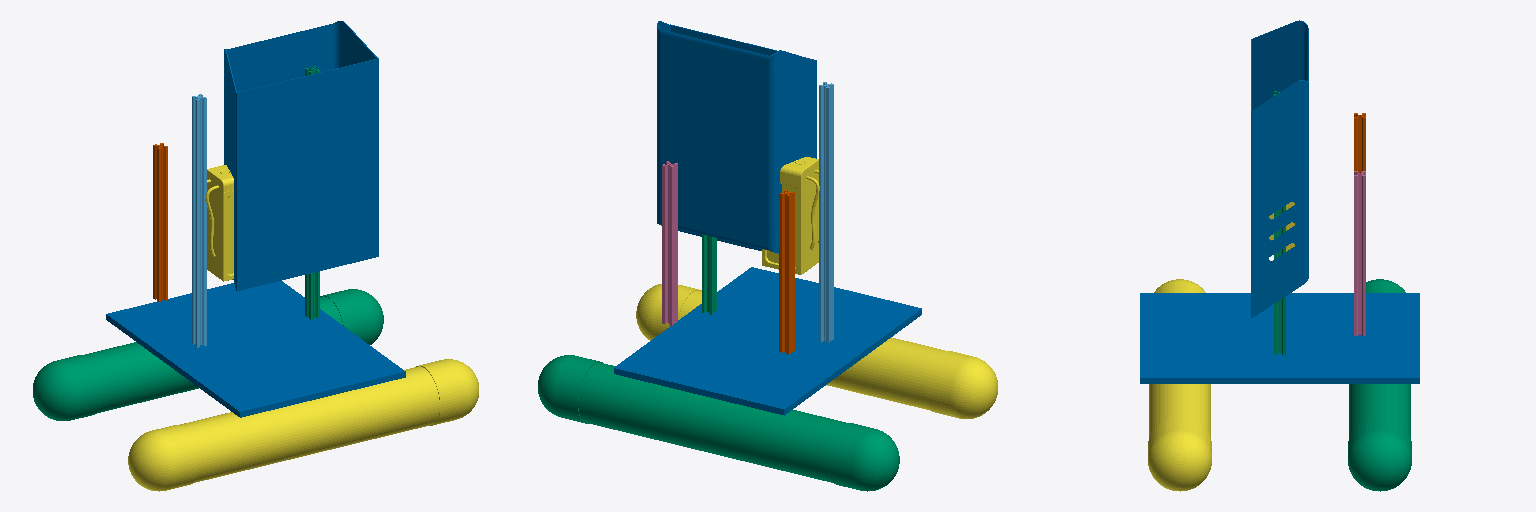
URDF robot description (asv_station_keeping_diag):
<?xml version='1.0' encoding='utf-8'?>
<robot name="asv_station_keeping_diag">
  <!-- Mesh-loading test only. Mounting poses are estimates, not Fusion occurrence transforms. 00_base has no visuals. -->
  <link name="base_footprint" />
  <link name="base_link">
    <inertial>
      <origin xyz="0 0 0" rpy="0 0 0" />
      <mass value="0.1" />
      <inertia ixx="0.0001" ixy="0" ixz="0" iyy="0.0001" iyz="0" izz="0.0001" />
    </inertial>
  </link>
  <link name="hull_left">
    <inertial>
      <origin xyz="0.0017543 -0.0000047 -0.0000010" rpy="0 0 0" />
      <mass value="8.7513272838" />
      <inertia ixx="0.0159438897" ixy="0" ixz="0" iyy="0.7485544942" iyz="0" izz="0.7485544942" />
    </inertial>
    <visual name="hull_left_visual">
      <origin xyz="-0.971730 0.357754 -1.641617" rpy="0 0 -1.57079632679" />
      <geometry>
        <mesh filename="package://asv_station_keeping/meshes/hull.stl" scale="0.001 0.001 0.001" />
      </geometry>
    </visual>
    <collision name="hull_left_collision">
      <geometry>
        <box size="0.724805 0.112973 0.112998" />
      </geometry>
    </collision>
  </link>
  <link name="hull_right">
    <inertial>
      <origin xyz="0.0017543 -0.0000047 -0.0000010" rpy="0 0 0" />
      <mass value="8.7513272838" />
      <inertia ixx="0.0159438897" ixy="0" ixz="0" iyy="0.7485544942" iyz="0" izz="0.7485544942" />
    </inertial>
    <visual name="hull_right_visual">
      <origin xyz="-0.971730 0.357754 -1.641617" rpy="0 0 -1.57079632679" />
      <geometry>
        <mesh filename="package://asv_station_keeping/meshes/hull.stl" scale="0.001 0.001 0.001" />
      </geometry>
    </visual>
    <collision name="hull_right_collision">
      <geometry>
        <box size="0.724805 0.112973 0.112998" />
      </geometry>
    </collision>
  </link>
  <link name="base_deck">
    <inertial>
      <origin xyz="0 0 0" rpy="0 0 0" />
      <mass value="16.1553" />
      <inertia ixx="0.3234344911" ixy="0" ixz="0" iyy="0.1651125511" iyz="0" izz="0.4881593150" />
    </inertial>
    <visual name="base_deck_visual">
      <origin xyz="-0.142254 -0.216347 -0.006000" rpy="1.57079632679 0 0" />
      <geometry>
        <mesh filename="package://asv_station_keeping/meshes/base_deck.stl" scale="0.001 0.001 0.001" />
      </geometry>
    </visual>
    <collision name="base_deck_collision">
      <geometry>
        <box size="0.350 0.490 0.012" />
      </geometry>
    </collision>
  </link>
  <link name="frame1_left">
    <inertial>
      <origin xyz="0 0 0" />
      <mass value="0.41469714" />
      <inertia ixx="0.00333785" ixy="0" ixz="0" iyy="0.00333785" iyz="0" izz="0.0000336422" />
    </inertial>
    <visual>
      <geometry>
        <mesh filename="package://asv_station_keeping/meshes/frame1.stl" scale="0.001 0.001 0.001" />
      </geometry>
    </visual>
    <collision>
      <geometry>
        <cylinder radius="0.010" length="0.310" />
      </geometry>
    </collision>
  </link>
  <link name="frame1_right">
    <inertial>
      <origin xyz="0 0 0" />
      <mass value="0.41469714" />
      <inertia ixx="0.00333785" ixy="0" ixz="0" iyy="0.00333785" iyz="0" izz="0.0000336422" />
    </inertial>
    <visual>
      <geometry>
        <mesh filename="package://asv_station_keeping/meshes/frame1.stl" scale="0.001 0.001 0.001" />
      </geometry>
    </visual>
    <collision>
      <geometry>
        <cylinder radius="0.010" length="0.310" />
      </geometry>
    </collision>
  </link>
  <link name="frame2_left">
    <inertial>
      <origin xyz="0 0 0" />
      <mass value="0.66886635" />
      <inertia ixx="0.01396185" ixy="0" ixz="0" iyy="0.01396185" iyz="0" izz="0.000054262" />
    </inertial>
    <visual>
      <geometry>
        <mesh filename="package://asv_station_keeping/meshes/frame2.stl" scale="0.001 0.001 0.001" />
      </geometry>
    </visual>
    <collision>
      <geometry>
        <cylinder radius="0.010" length="0.500" />
      </geometry>
    </collision>
  </link>
  <link name="frame2_right">
    <inertial>
      <origin xyz="0 0 0" />
      <mass value="0.66886635" />
      <inertia ixx="0.01396185" ixy="0" ixz="0" iyy="0.01396185" iyz="0" izz="0.000054262" />
    </inertial>
    <visual>
      <geometry>
        <mesh filename="package://asv_station_keeping/meshes/frame2.stl" scale="0.001 0.001 0.001" />
      </geometry>
    </visual>
    <collision>
      <geometry>
        <cylinder radius="0.010" length="0.500" />
      </geometry>
    </collision>
  </link>
  <link name="frame3_left">
    <inertial>
      <origin xyz="0 0 0" />
      <mass value="0.66886635" />
      <inertia ixx="0.01396185" ixy="0" ixz="0" iyy="0.01396185" iyz="0" izz="0.000054262" />
    </inertial>
    <visual>
      <geometry>
        <mesh filename="package://asv_station_keeping/meshes/frame3.stl" scale="0.001 0.001 0.001" />
      </geometry>
    </visual>
    <collision>
      <geometry>
        <cylinder radius="0.010" length="0.500" />
      </geometry>
    </collision>
  </link>
  <link name="frame3_right">
    <inertial>
      <origin xyz="0 0 0" />
      <mass value="0.66886635" />
      <inertia ixx="0.01396185" ixy="0" ixz="0" iyy="0.01396185" iyz="0" izz="0.000054262" />
    </inertial>
    <visual>
      <geometry>
        <mesh filename="package://asv_station_keeping/meshes/frame3.stl" scale="0.001 0.001 0.001" />
      </geometry>
    </visual>
    <collision>
      <geometry>
        <cylinder radius="0.010" length="0.500" />
      </geometry>
    </collision>
  </link>
  <link name="battery">
    <inertial>
      <origin xyz="0.011821 0 0.000846" />
      <mass value="8.29420474" />
      <inertia ixx="0.0317350" ixy="0" ixz="0.0000687" iyy="0.0339037" iyz="0" izz="0.00778636" />
    </inertial>
    <visual>
      <origin xyz="0.012244 -0.035000 -0.000150" />
      <geometry>
        <mesh filename="package://asv_station_keeping/meshes/battery.stl" scale="0.001 0.001 0.001" />
      </geometry>
    </visual>
    <collision>
      <geometry>
        <box size="0.109 0.070 0.202" />
      </geometry>
    </collision>
  </link>
  <link name="electronics">
    <inertial>
      <origin xyz="0 -0.005565 -0.000224" />
      <mass value="4.50915118" />
      <inertia ixx="0.0697094" ixy="0" ixz="0" iyy="0.1035140" iyz="-0.00452282" izz="0.0519051" />
    </inertial>
    <visual>
      <origin xyz="0 -0.051000 -0.023578" />
      <geometry>
        <mesh filename="package://asv_station_keeping/meshes/electronics.stl" scale="0.001 0.001 0.001" />
      </geometry>
    </visual>
    <collision>
      <geometry>
        <box size="0.300 0.102 0.447" />
      </geometry>
    </collision>
  </link>
  <joint name="base_footprint_to_base_link" type="fixed">
    <parent link="base_footprint" />
    <child link="base_link" />
    <origin xyz="0 0 0" rpy="0 0 0" />
  </joint>
  <joint name="base_to_hull_left" type="fixed">
    <parent link="base_link" />
    <child link="hull_left" />
    <origin xyz="0 0.175 0.055" rpy="0 0 0" />
  </joint>
  <joint name="base_to_hull_right" type="fixed">
    <parent link="base_link" />
    <child link="hull_right" />
    <origin xyz="0 -0.175 0.055" rpy="0 0 0" />
  </joint>
  <joint name="base_to_base_deck" type="fixed">
    <parent link="base_link" />
    <child link="base_deck" />
    <origin xyz="0 0 0.145" rpy="0 0 0" />
  </joint>
  <joint name="deck_to_frame1_left" type="fixed">
    <parent link="base_deck" />
    <child link="frame1_left" />
    <origin xyz="-0.12 0.14 0.22" />
  </joint>
  <joint name="deck_to_frame1_right" type="fixed">
    <parent link="base_deck" />
    <child link="frame1_right" />
    <origin xyz="0.12 0.14 0.22" />
  </joint>
  <joint name="deck_to_frame2_left" type="fixed">
    <parent link="base_deck" />
    <child link="frame2_left" />
    <origin xyz="-0.12 -0.14 0.28" />
  </joint>
  <joint name="deck_to_frame2_right" type="fixed">
    <parent link="base_deck" />
    <child link="frame2_right" />
    <origin xyz="0.12 -0.14 0.28" />
  </joint>
  <joint name="deck_to_frame3_left" type="fixed">
    <parent link="base_deck" />
    <child link="frame3_left" />
    <origin xyz="-0.12 0 0.28" />
  </joint>
  <joint name="deck_to_frame3_right" type="fixed">
    <parent link="base_deck" />
    <child link="frame3_right" />
    <origin xyz="0.12 0 0.28" />
  </joint>
  <joint name="deck_to_battery" type="fixed">
    <parent link="base_deck" />
    <child link="battery" />
    <origin xyz="-0.06 0 0.265" />
  </joint>
  <joint name="deck_to_electronics" type="fixed">
    <parent link="base_deck" />
    <child link="electronics" />
    <origin xyz="0.08 0 0.370" />
  </joint>
</robot>

--- Render facts (derived) ---
3 views of the same robot in one strip: view 1: azimuth 30°, elevation 25°; view 2: azimuth 150°, elevation 25°; view 3: azimuth 270°, elevation 25° (orthographic).
Robot: asv_station_keeping_diag — 13 links, 12 joints (12 fixed); root link base_footprint; default pose: every joint at zero.
Links seen in each view (by area): view 1: electronics, base_deck, hull_right, hull_left, frame3_left, battery, frame1_left, frame3_right; view 2: electronics, base_deck, hull_left, hull_right, frame3_left, battery, frame1_right, frame1_left, frame3_right; view 3: base_deck, electronics, hull_right, hull_left, frame1_right, frame3_right, frame1_left.
Boxes of the visible links, box(x1,y1,x2,y2) form: electronics: box(224, 21, 378, 290); base_deck: box(106, 281, 405, 417); hull_right: box(128, 359, 478, 491); hull_left: box(33, 289, 383, 420); frame3_left: box(192, 94, 206, 347); battery: box(206, 165, 233, 281); frame1_left: box(153, 143, 167, 301); frame3_right: box(305, 66, 319, 319); electronics: box(657, 21, 816, 253); base_deck: box(614, 267, 921, 415); hull_left: box(538, 355, 899, 491); hull_right: box(636, 284, 997, 418); frame3_left: box(819, 82, 833, 342); battery: box(762, 157, 819, 274); frame1_right: box(662, 161, 677, 325); frame1_left: box(779, 190, 794, 353); frame3_right: box(702, 234, 716, 314); base_deck: box(1140, 293, 1419, 383); electronics: box(1251, 20, 1308, 317); hull_right: box(1148, 279, 1211, 491); hull_left: box(1348, 279, 1411, 491); frame1_right: box(1354, 171, 1365, 335); frame3_right: box(1274, 91, 1285, 354); frame1_left: box(1354, 113, 1365, 172).
Bounding box of the posed robot: 0.7248 × 0.49 × 0.7401 m (x, y, z).
9 mesh visuals loaded from 7 distinct referenced files (6 binary STL); not drawn: 2 (reference not matched to a file when rendering).
